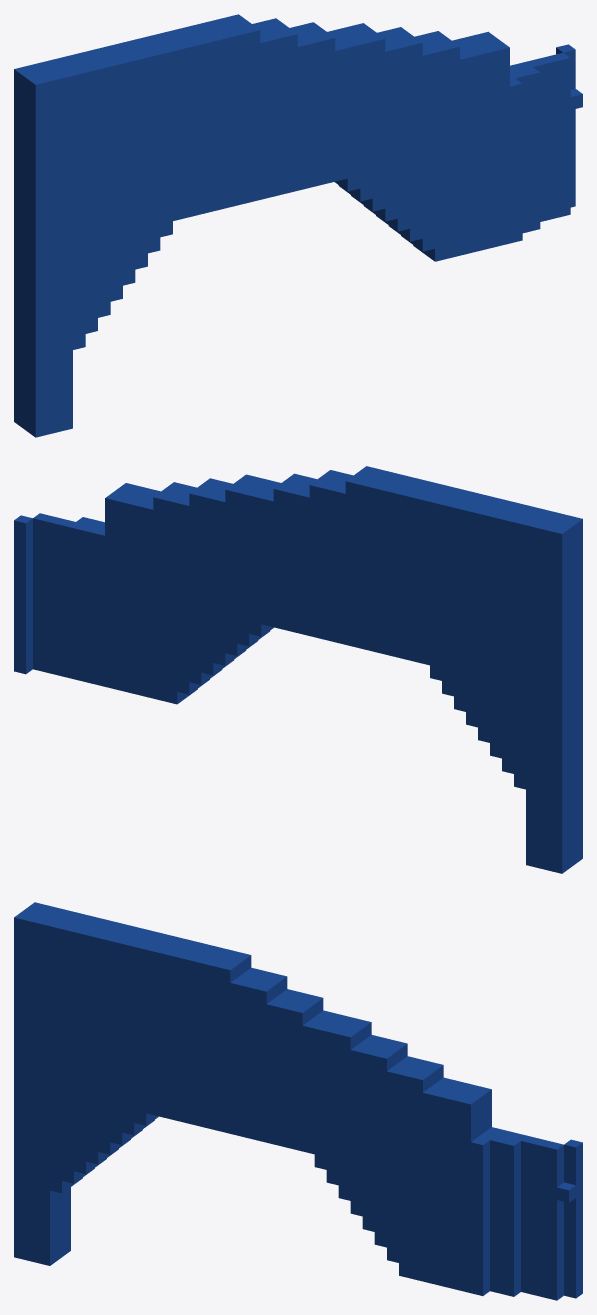
File: high_roof_van_front_wing.glb
The picture shows the model from 3 angles, top to bottom: view 1: azimuth 30°, elevation 25°; view 2: azimuth 150°, elevation 25°; view 3: azimuth 330°, elevation 25°; orthographic projection. The views are drawn at different scales.
Parts seen in each view (by area): view 1: body:compound; view 2: body:compound; view 3: body:compound.
Boxes of the visible parts, bbox=[...] form: body:compound: bbox=[14, 14, 582, 437]; body:compound: bbox=[14, 466, 582, 873]; body:compound: bbox=[14, 902, 582, 1300].
Size of the model in its own units: 1.41 by 0.8438 by 0.125.
